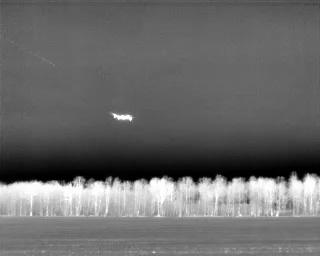DRONE: (108, 108, 137, 127)
